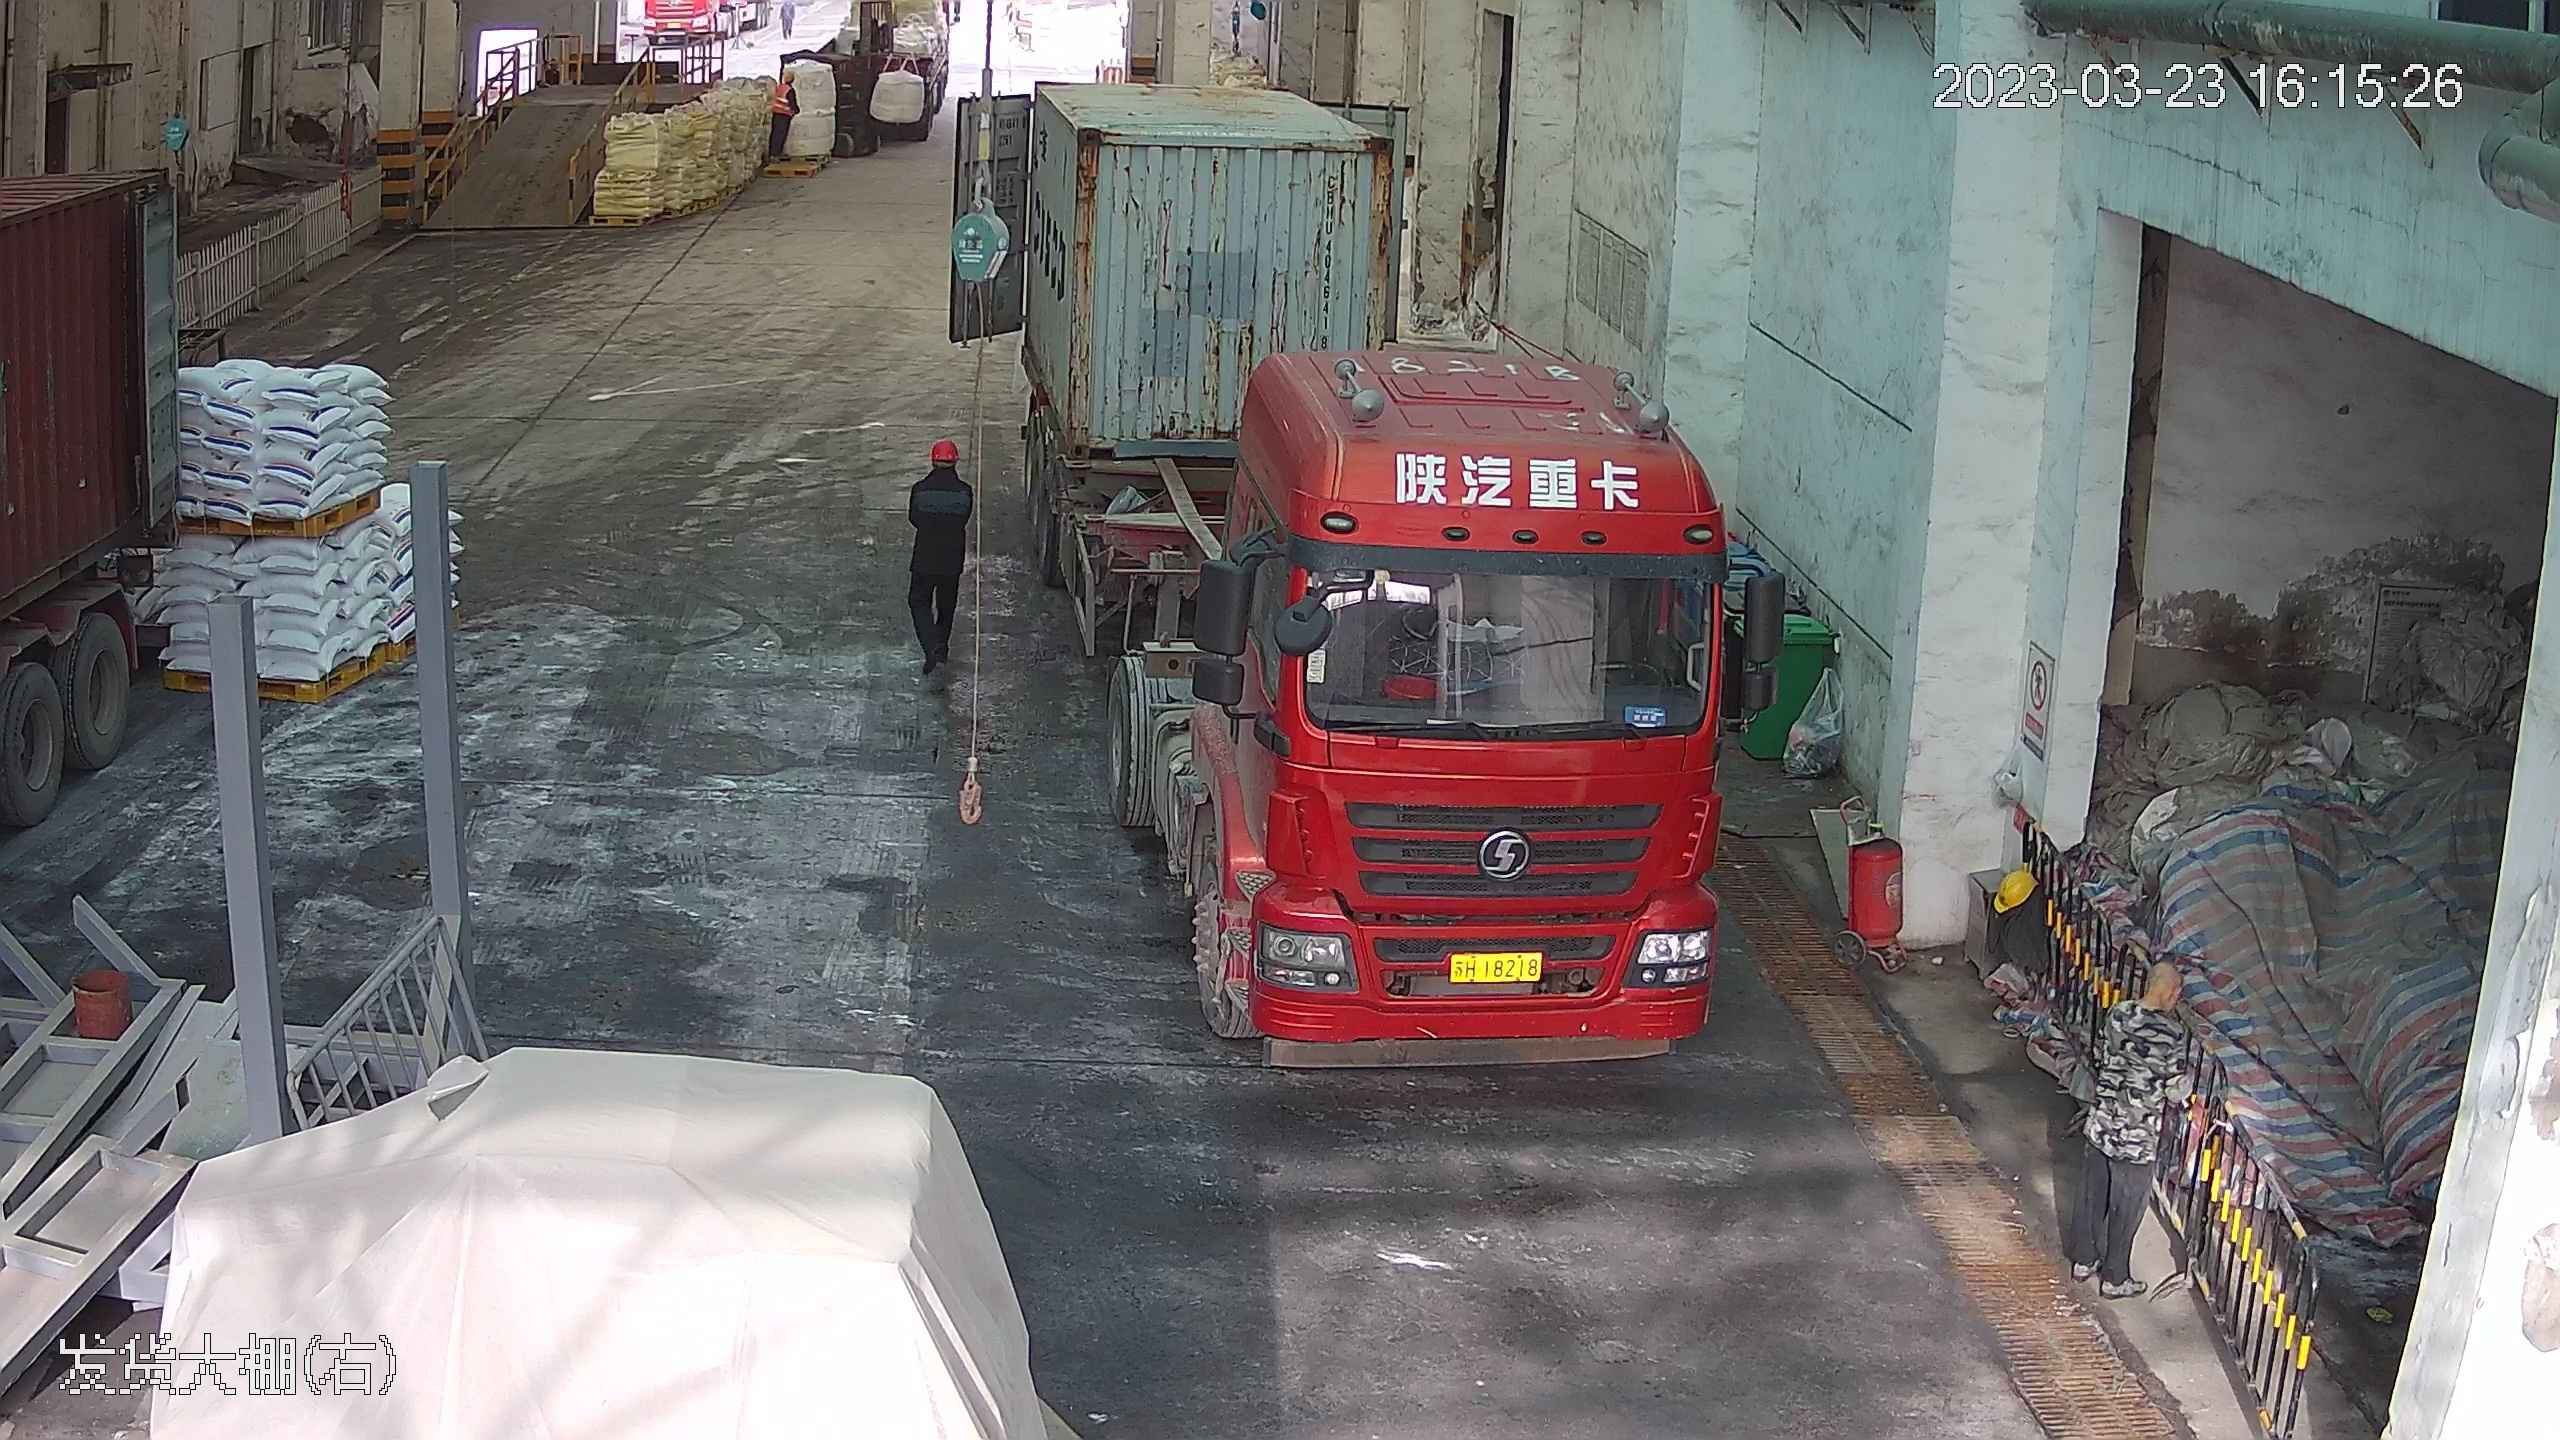head: (908, 434, 973, 512), (771, 71, 800, 104)
helmet: (1993, 861, 2038, 914), (928, 434, 962, 459), (783, 70, 795, 83)
people: (2056, 960, 2218, 1295), (901, 432, 976, 683), (765, 68, 803, 159)
truck: (993, 24, 1749, 1079), (1, 1, 202, 1039)
